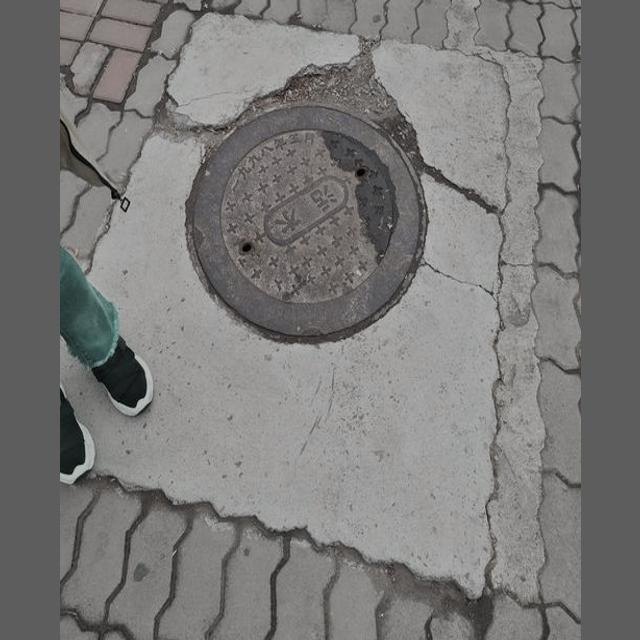circle: (139, 45, 488, 383)
